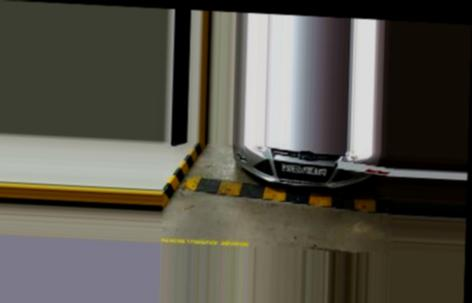License_Plate: (280, 164, 328, 176)
